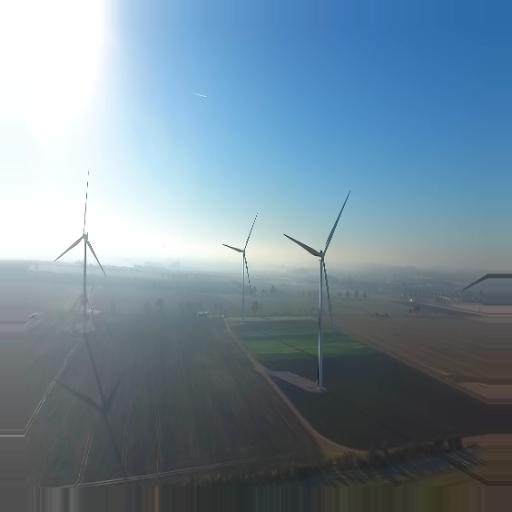wind turbine: (282, 191, 354, 392), (51, 169, 108, 316), (220, 211, 259, 324)
